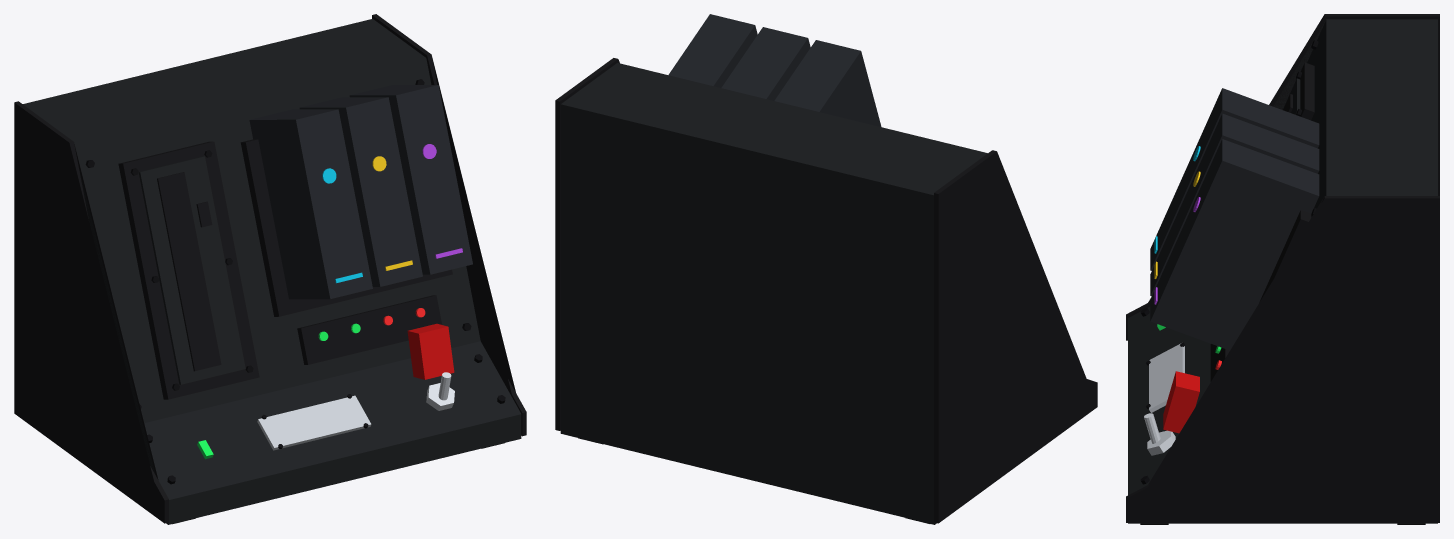
Rendered from gvk_dock_mk1.obj.
3 renders of one model, left to right at view 1: azimuth 30°, elevation 25°; view 2: azimuth 150°, elevation 25°; view 3: azimuth 270°, elevation 25°, orthographic. The views are drawn at different scales.
Size of the model in its own units: 246 by 218 by 177.
